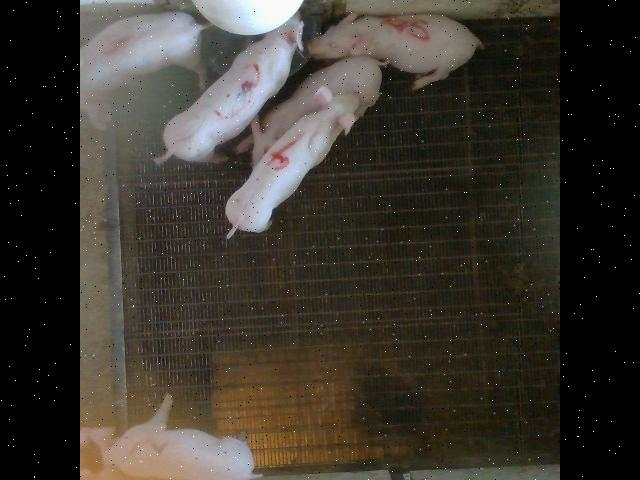pig-1: (81, 11, 202, 92)
pig-2: (87, 394, 258, 480)
pig-3: (157, 16, 302, 161)
pig-4: (226, 86, 358, 238)
pig-5: (308, 12, 482, 89)
